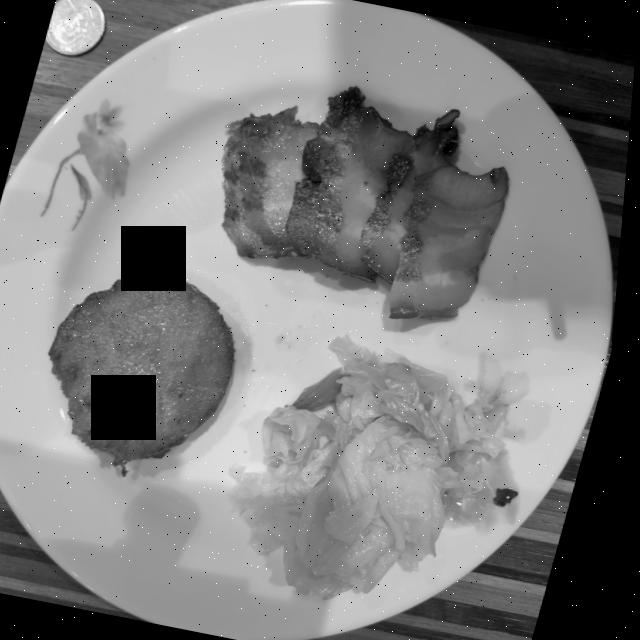Spam: (55, 270, 241, 475)
cabbage: (238, 336, 527, 600)
coin: (46, 0, 106, 56)
red grilled pork: (225, 87, 512, 319)
